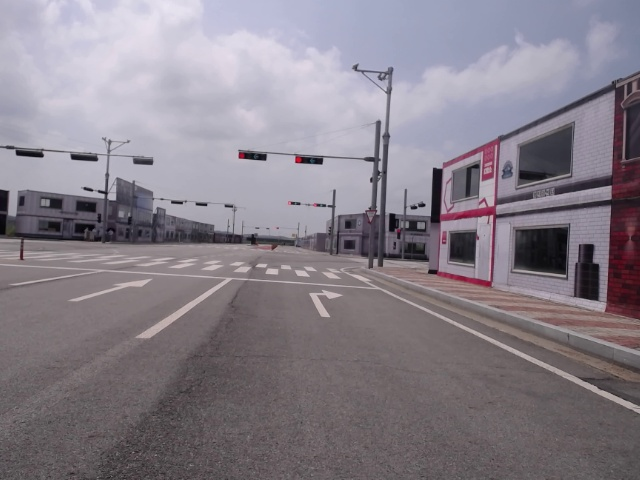left_green_4: (239, 152, 266, 161), (296, 157, 323, 165), (314, 203, 326, 207), (289, 202, 300, 206)
